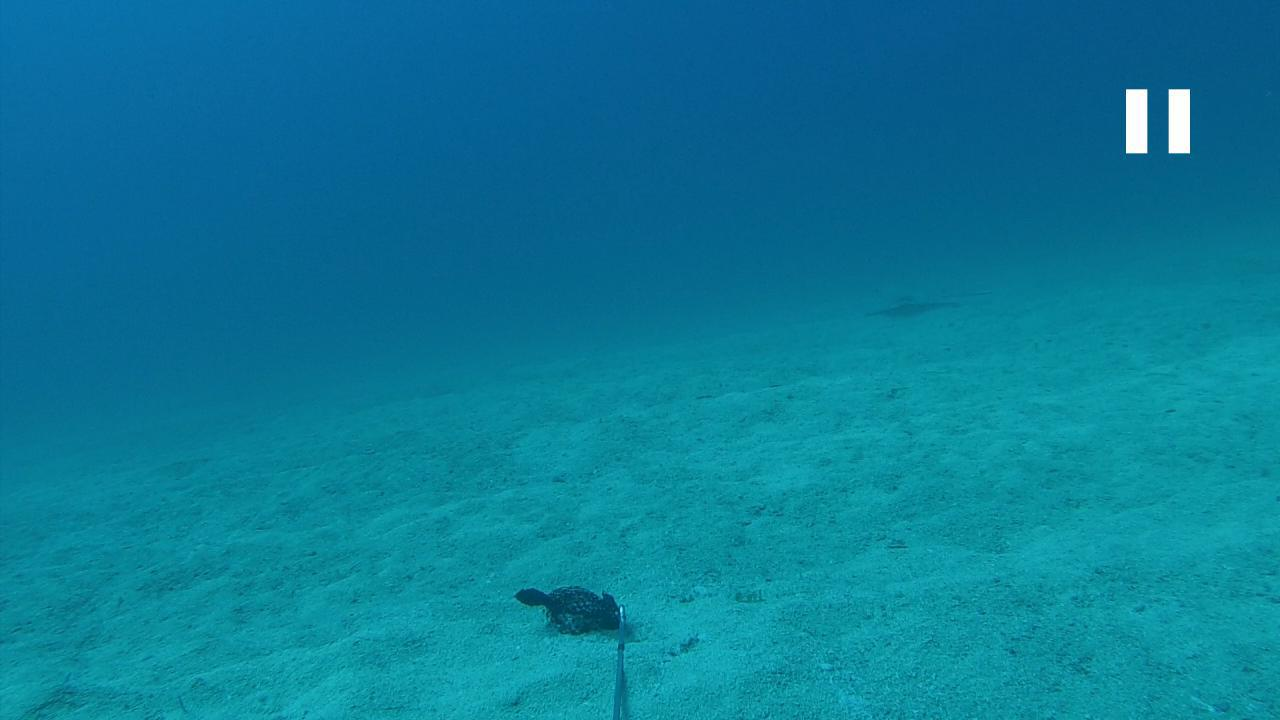dasyatis: (860, 282, 989, 318)
